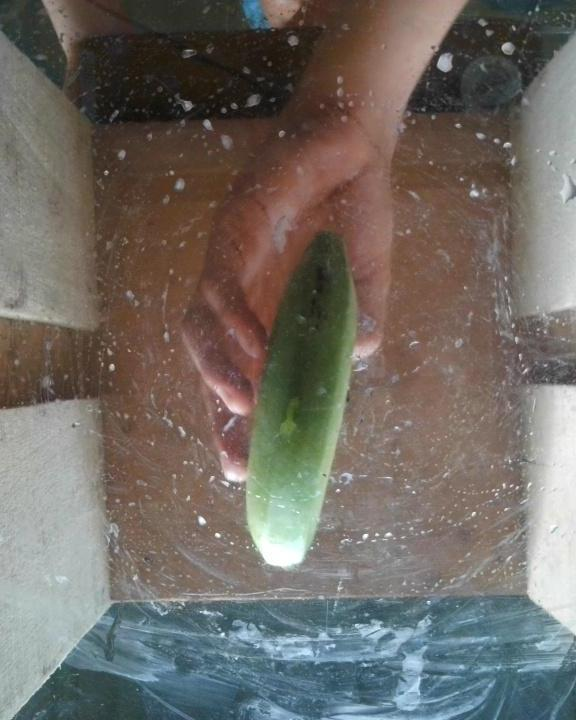CLASS B: (246, 232, 358, 577)
Class A: (299, 260, 340, 327)
